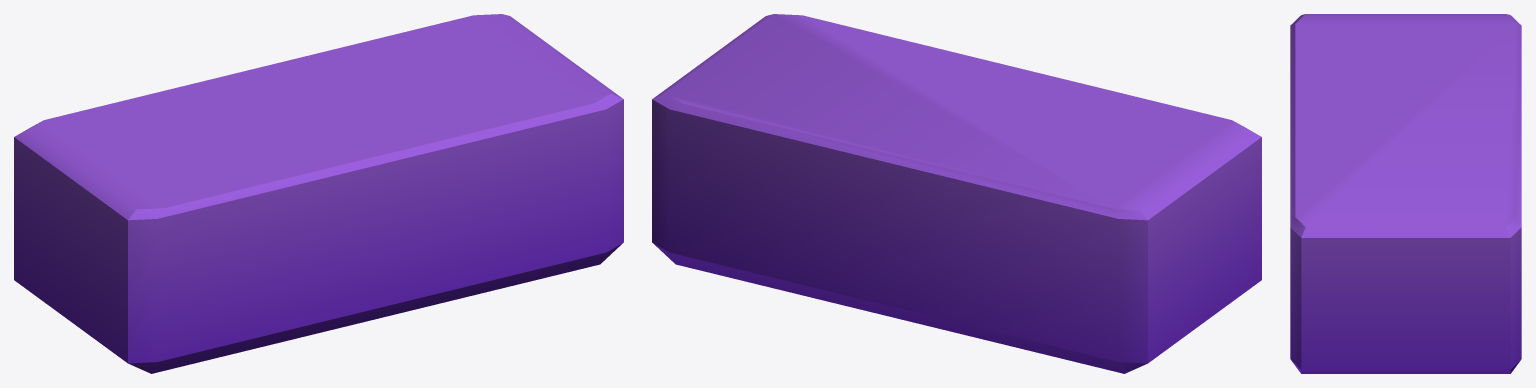
File: Wall_Half.fbx
3 views of the same model, side by side, from view 1: azimuth 30°, elevation 25°; view 2: azimuth 150°, elevation 25°; view 3: azimuth 270°, elevation 25° (orthographic). The views are drawn at different scales.
Visible parts, largest first — view 1: HalfWallMesh; view 2: HalfWallMesh; view 3: HalfWallMesh.
Part boxes in pixels (x1=…): HalfWallMesh: x1=14, y1=14, x2=623, y2=373; HalfWallMesh: x1=652, y1=14, x2=1261, y2=373; HalfWallMesh: x1=1290, y1=14, x2=1521, y2=373.
Size of the model in its own units: 455 by 146 by 200.
